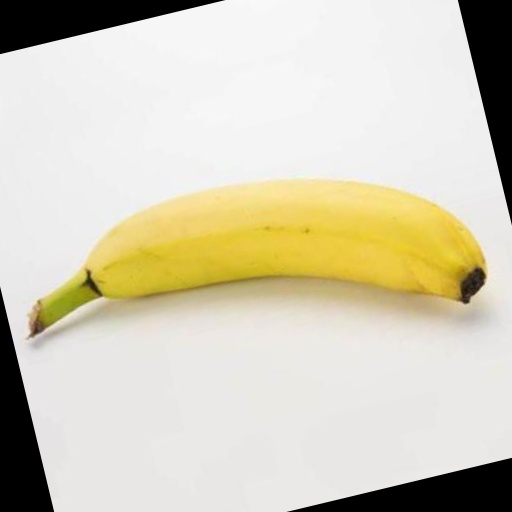fruit: (2, 170, 149, 441)
